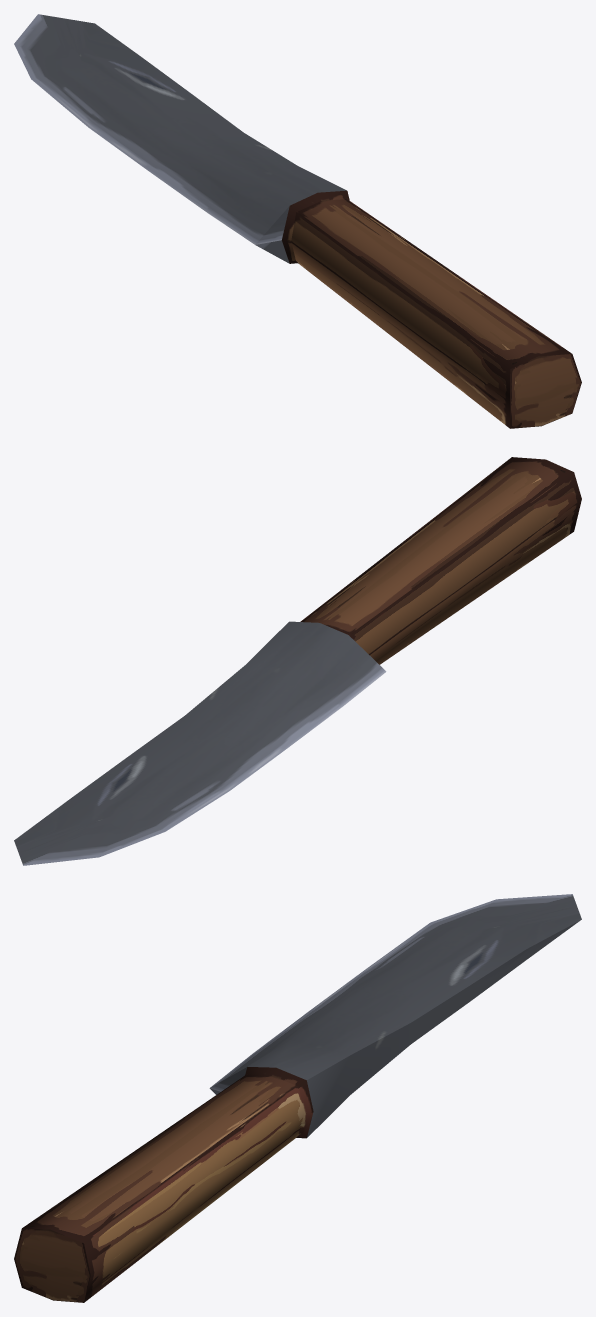
File: SM_PROP_knife_dungeon_03.fbx
The picture shows the model from 3 angles, top to bottom: view 1: azimuth 30°, elevation 25°; view 2: azimuth 150°, elevation 25°; view 3: azimuth 330°, elevation 25°; orthographic projection.
Visible parts, largest first — view 1: SM_PROP_knife_dungeon_03; view 2: SM_PROP_knife_dungeon_03; view 3: SM_PROP_knife_dungeon_03.
Boxes of the visible parts, bbox=[...] form: SM_PROP_knife_dungeon_03: bbox=[14, 14, 581, 428]; SM_PROP_knife_dungeon_03: bbox=[14, 457, 581, 865]; SM_PROP_knife_dungeon_03: bbox=[14, 894, 581, 1302].
Size of the model in its own units: 3.26 by 1.97 by 26.09.
